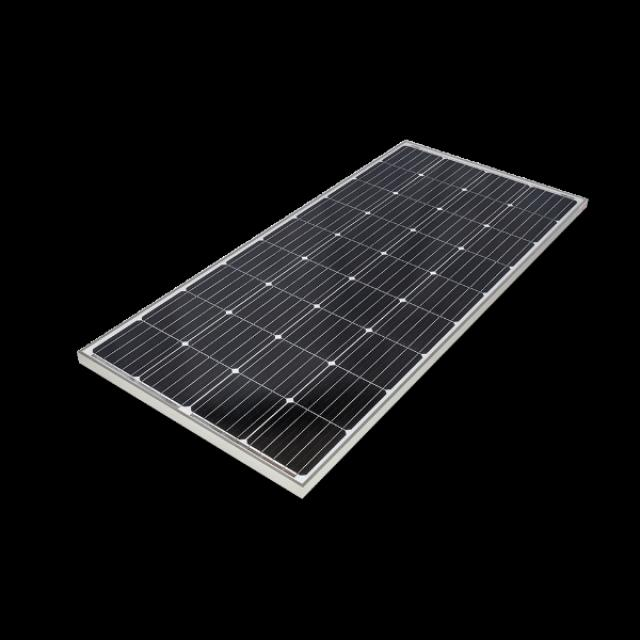clean-solar-panel: (95, 145, 576, 475)
